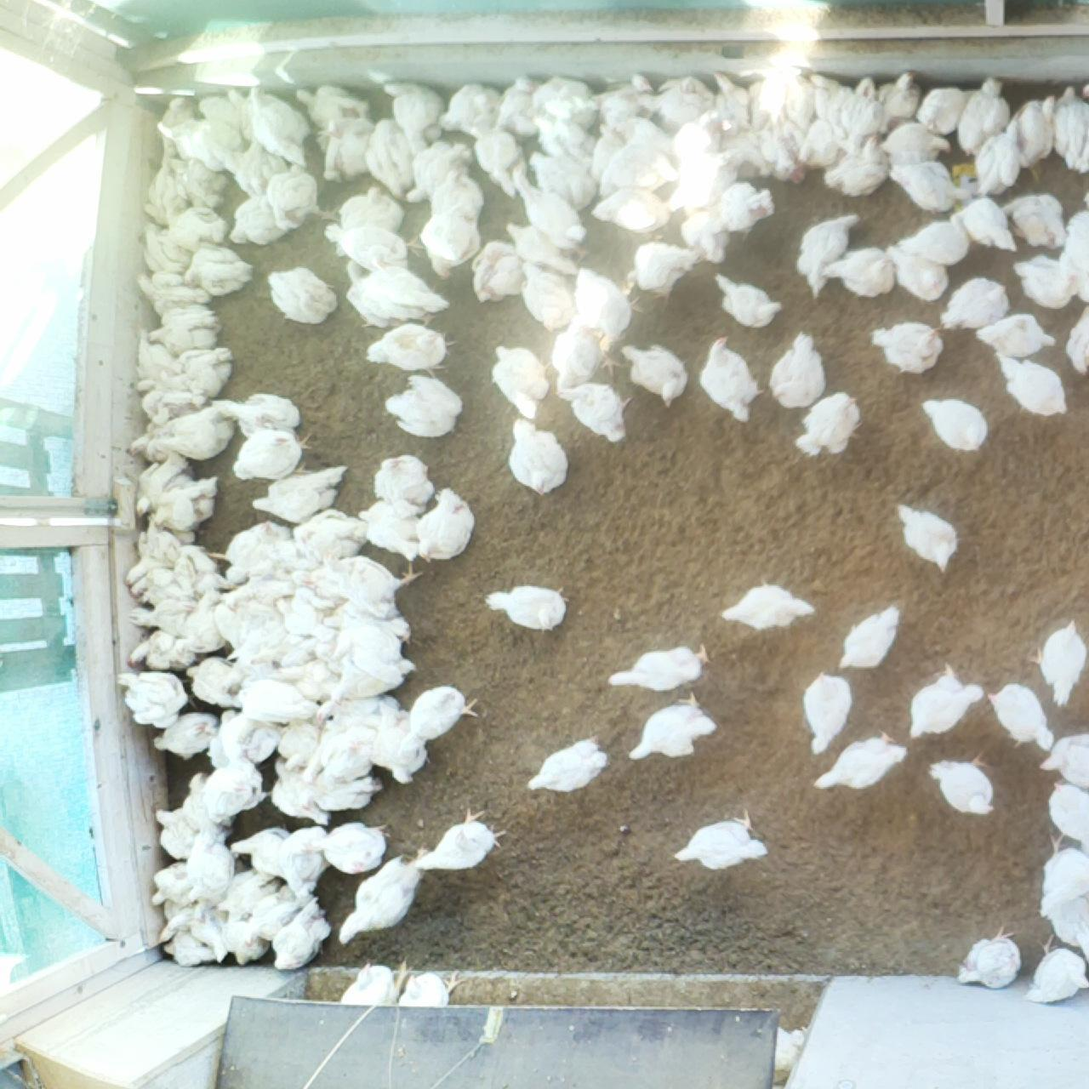chicken: (337, 846, 433, 949), (291, 553, 421, 622), (406, 163, 483, 278), (509, 159, 592, 257), (339, 255, 450, 328), (317, 642, 417, 716), (907, 660, 988, 743), (790, 210, 863, 301), (127, 405, 239, 464), (812, 729, 910, 795), (626, 694, 721, 762), (414, 807, 509, 875), (252, 462, 352, 524), (673, 807, 768, 872), (202, 736, 269, 828), (567, 267, 645, 344), (398, 684, 482, 753), (700, 336, 765, 423), (1041, 834, 1089, 951), (381, 372, 463, 439), (606, 641, 711, 692), (625, 242, 706, 308), (547, 321, 618, 396), (368, 699, 430, 784), (1028, 617, 1087, 706), (507, 416, 571, 498), (989, 352, 1068, 418), (267, 160, 341, 230), (248, 84, 312, 164), (313, 723, 386, 792), (299, 823, 392, 877), (361, 117, 420, 202), (337, 959, 415, 1023), (362, 322, 454, 376), (525, 736, 609, 795), (556, 380, 632, 445), (157, 114, 242, 172), (516, 255, 579, 333), (987, 683, 1056, 754), (955, 75, 1014, 158), (357, 497, 430, 564), (413, 486, 476, 563), (1020, 935, 1089, 1005), (470, 238, 539, 308), (894, 504, 962, 575), (230, 425, 314, 482), (768, 331, 827, 412), (123, 520, 192, 589), (276, 825, 341, 898), (527, 74, 601, 138), (885, 159, 976, 211), (323, 223, 421, 271), (129, 542, 216, 596), (492, 343, 553, 420), (795, 391, 864, 459), (403, 143, 477, 206), (823, 132, 891, 200), (922, 755, 999, 815), (272, 897, 332, 974), (301, 766, 385, 821), (290, 507, 374, 562), (470, 117, 527, 198), (507, 220, 583, 280), (382, 81, 448, 150), (230, 673, 319, 724), (396, 968, 468, 1031), (526, 149, 599, 211), (598, 139, 677, 196), (838, 603, 904, 671), (174, 588, 238, 658), (210, 394, 301, 443), (802, 671, 855, 755), (268, 756, 331, 826), (227, 519, 297, 582), (332, 188, 403, 250), (529, 110, 600, 172), (666, 149, 743, 206), (591, 185, 675, 237), (721, 586, 818, 631), (483, 584, 572, 633), (182, 652, 257, 710), (817, 243, 896, 298), (267, 266, 337, 328), (958, 926, 1023, 992), (113, 670, 186, 728), (372, 453, 436, 519), (1008, 93, 1062, 171), (437, 80, 509, 138), (242, 885, 310, 946), (180, 771, 236, 845), (228, 824, 303, 879), (941, 275, 1013, 332), (135, 447, 192, 519), (621, 343, 688, 404), (148, 303, 225, 356), (154, 472, 222, 532), (870, 318, 942, 374), (182, 242, 255, 297), (215, 140, 288, 195), (493, 75, 552, 143), (837, 75, 887, 155), (997, 191, 1065, 249), (1014, 252, 1083, 309), (185, 831, 236, 908), (975, 118, 1025, 196), (884, 241, 950, 300), (125, 626, 206, 674), (715, 272, 783, 329), (973, 312, 1059, 357), (161, 345, 236, 396), (1048, 85, 1089, 177), (953, 195, 1018, 253), (324, 117, 381, 183), (895, 220, 980, 264), (327, 620, 408, 666), (323, 604, 416, 644), (156, 807, 221, 864), (318, 689, 404, 732), (143, 567, 229, 610), (251, 629, 335, 673), (922, 396, 989, 451), (230, 192, 298, 246), (663, 109, 723, 170), (141, 155, 191, 228), (293, 82, 369, 130), (152, 711, 223, 762), (220, 714, 284, 770), (137, 268, 211, 316), (877, 124, 954, 170), (586, 120, 638, 188), (1054, 206, 1089, 307), (158, 913, 230, 962), (677, 207, 737, 265), (915, 82, 978, 137), (206, 709, 261, 772), (134, 331, 190, 392), (168, 155, 230, 210), (710, 182, 778, 232), (216, 868, 280, 921), (870, 70, 922, 135), (274, 656, 348, 701), (590, 71, 654, 123), (130, 598, 207, 641), (655, 73, 714, 129), (135, 385, 209, 429), (299, 719, 349, 784), (278, 717, 333, 776), (1036, 729, 1089, 790), (1046, 778, 1089, 853), (275, 585, 332, 641), (162, 205, 231, 251), (808, 70, 858, 133), (771, 66, 817, 134), (761, 118, 809, 183), (222, 578, 308, 614), (149, 859, 213, 907), (708, 68, 756, 131), (743, 68, 791, 128), (138, 220, 191, 274), (615, 117, 677, 163), (199, 93, 251, 147), (794, 116, 846, 169), (161, 927, 225, 969), (715, 132, 771, 180), (212, 604, 274, 647), (157, 95, 200, 157), (225, 88, 269, 145), (219, 918, 273, 964), (157, 894, 211, 934), (1064, 302, 1089, 376)
